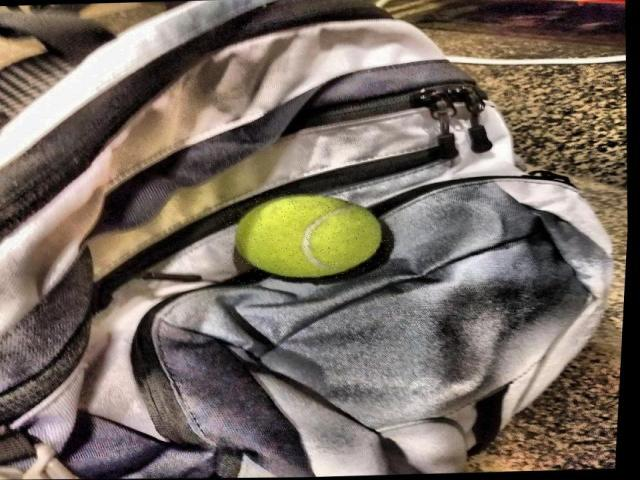tennis-ball: (235, 193, 382, 278)
